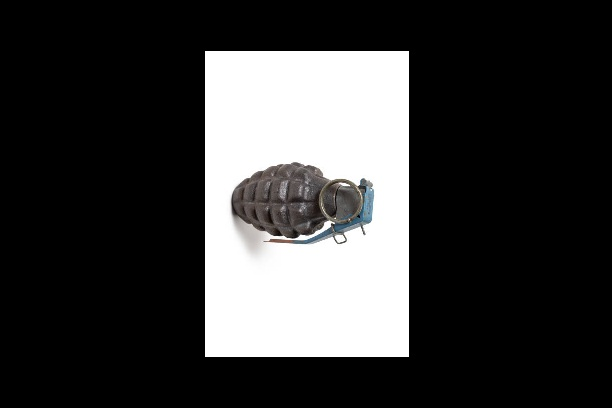e1: (223, 155, 379, 251)
